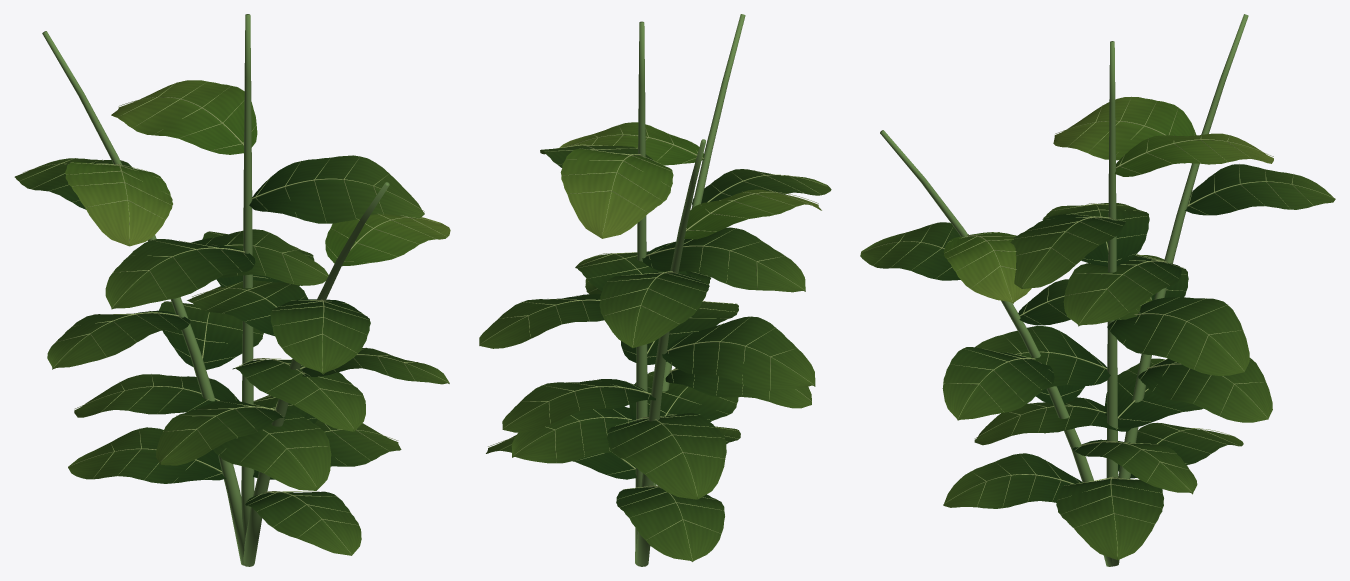
The model's file is bellflower-06.glb.
The picture shows the model from 3 angles, left to right: view 1: azimuth 30°, elevation 25°; view 2: azimuth 150°, elevation 25°; view 3: azimuth 270°, elevation 25°; orthographic projection. The views are drawn at different scales.
Parts seen in each view (by area): view 1: bellflower_stage_06_leaf_veins.010, bellflower_stage_06_young_leaf.010, bellflower_stage_06_stem_fibres.010, bellflower_stage_06_raised_midveins.010; view 2: bellflower_stage_06_leaf_veins.010, bellflower_stage_06_young_leaf.010, bellflower_stage_06_stem_fibres.010, bellflower_stage_06_raised_midveins.010; view 3: bellflower_stage_06_leaf_veins.010, bellflower_stage_06_young_leaf.010, bellflower_stage_06_stem_fibres.010, bellflower_stage_06_raised_midveins.010.
Part boxes in pixels (x1,y1,x2,y2): bellflower_stage_06_leaf_veins.010: (14, 155, 449, 555); bellflower_stage_06_young_leaf.010: (65, 80, 450, 266); bellflower_stage_06_stem_fibres.010: (42, 14, 389, 566); bellflower_stage_06_raised_midveins.010: (19, 81, 449, 554); bellflower_stage_06_leaf_veins.010: (479, 146, 831, 561); bellflower_stage_06_young_leaf.010: (559, 122, 821, 239); bellflower_stage_06_stem_fibres.010: (635, 14, 745, 566); bellflower_stage_06_raised_midveins.010: (479, 125, 827, 560); bellflower_stage_06_leaf_veins.010: (860, 164, 1335, 560); bellflower_stage_06_young_leaf.010: (943, 97, 1273, 303); bellflower_stage_06_stem_fibres.010: (880, 14, 1248, 566); bellflower_stage_06_raised_midveins.010: (861, 96, 1335, 556).
Size of the model in its own units: 0.2256 by 0.3491 by 0.2877.
4 materials, 2 textured.
